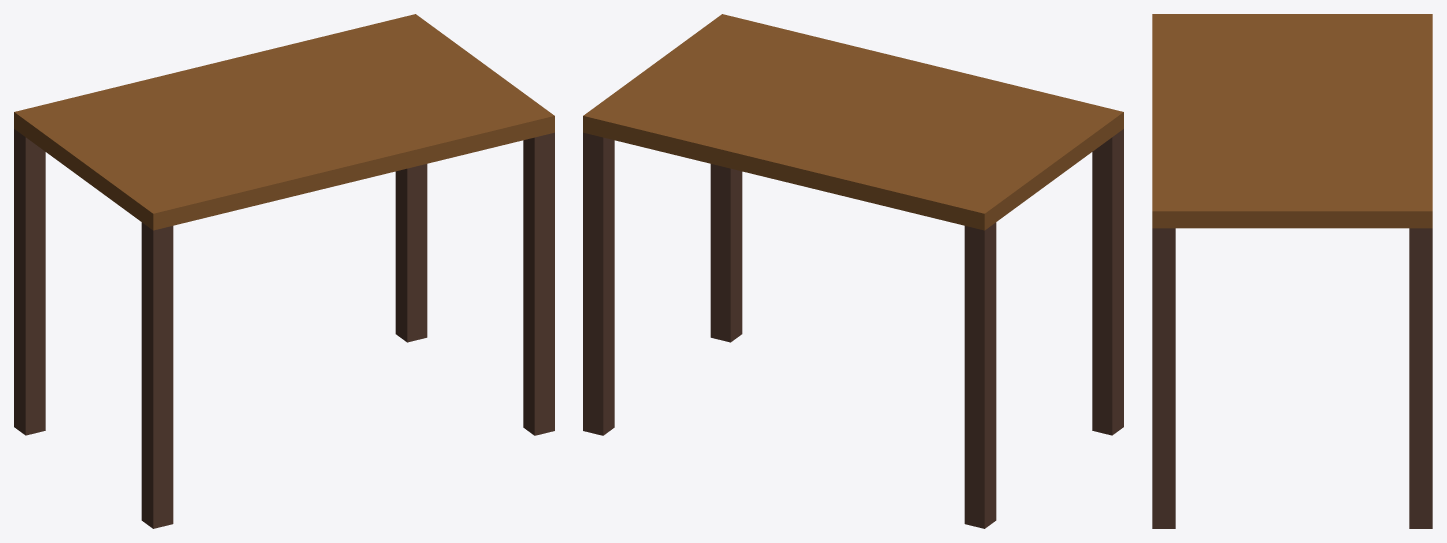
Rendered from table.glb.
3 views of the same model, side by side, from view 1: azimuth 30°, elevation 25°; view 2: azimuth 150°, elevation 25°; view 3: azimuth 270°, elevation 25° (orthographic).
Parts seen in each view (by area): view 1: table_top, table; view 2: table_top, table; view 3: table_top, table.
Boxes of the visible parts, <box> form: table_top: <box>14,14,554,230</box>; table: <box>14,129,554,528</box>; table_top: <box>583,14,1123,230</box>; table: <box>583,129,1123,528</box>; table_top: <box>1152,14,1432,228</box>; table: <box>1152,228,1432,528</box>.
Bounding box in the file's own units: 1 × 0.75 × 0.6.
